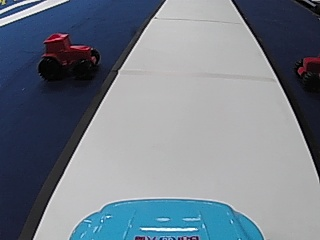tractor: (36, 30, 100, 81), (293, 53, 320, 92)
